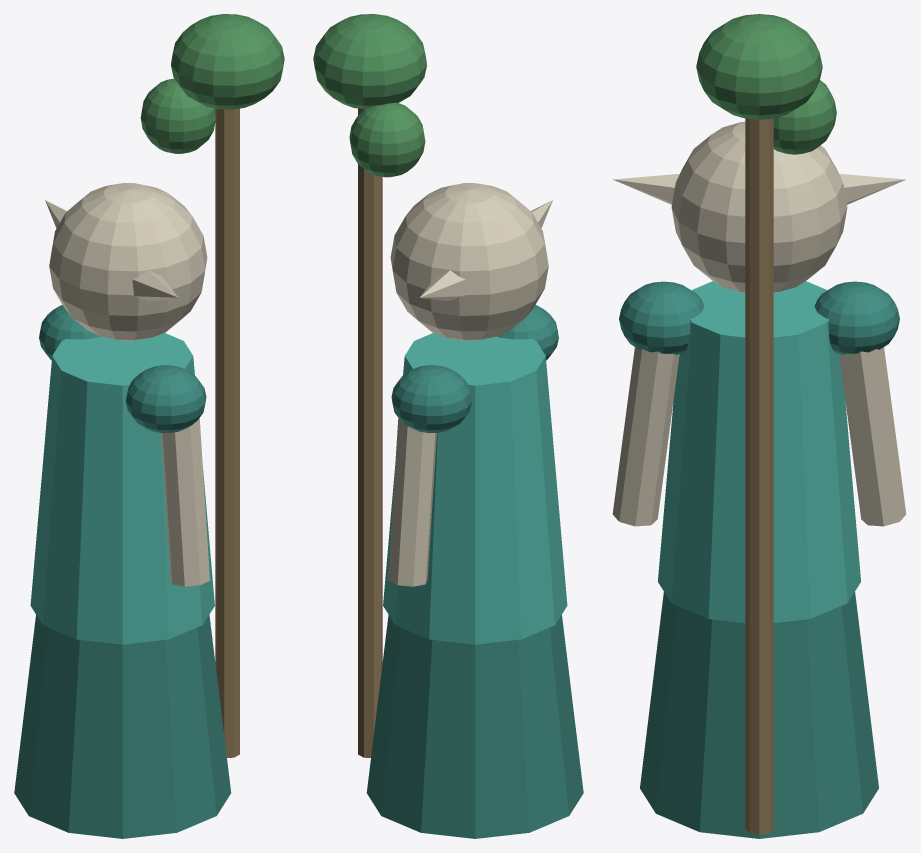
File: hero_yllien_2.glb
The picture shows the model from 3 angles, left to right: view 1: azimuth 30°, elevation 25°; view 2: azimuth 150°, elevation 25°; view 3: azimuth 270°, elevation 25°; orthographic projection. The views are drawn at different scales.
Visible parts, largest first — view 1: figurka; view 2: figurka; view 3: figurka.
Boxes of the visible parts, x1,y1,x2,y2 form: figurka: (14, 14, 284, 838); figurka: (313, 14, 583, 838); figurka: (612, 14, 906, 838).
Bounding box in the file's own units: 0.45 × 1.29 × 0.4183.
